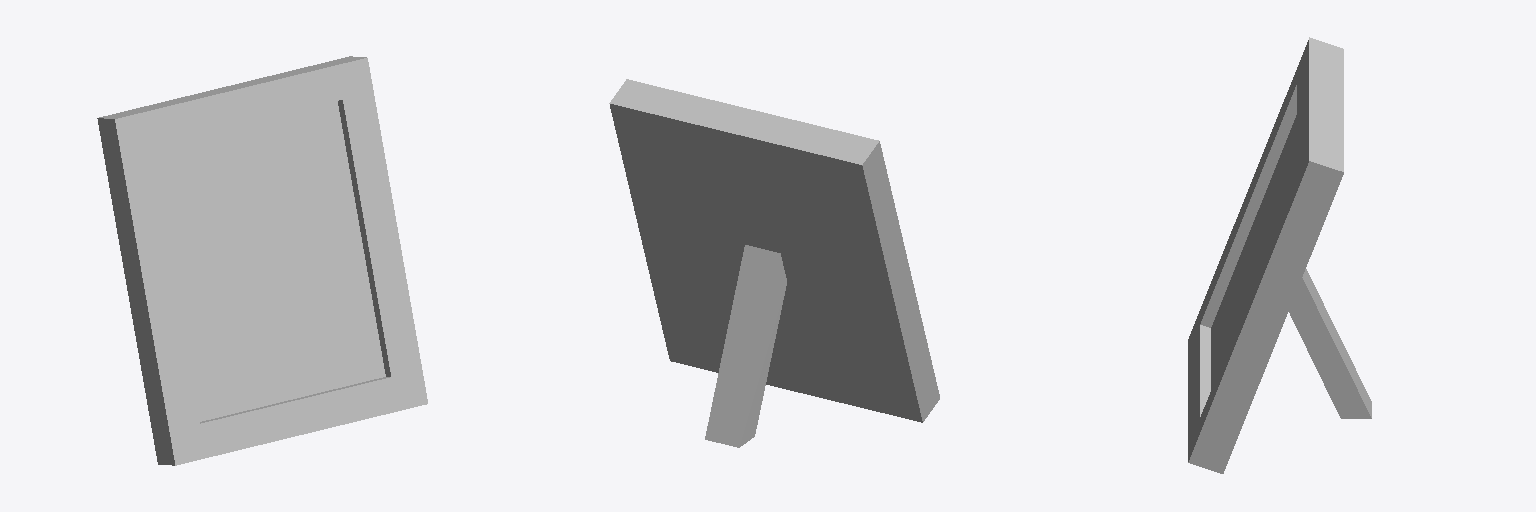
The model's file is Painting_Small2.obj.
3 views of the same model, side by side, from view 1: azimuth 30°, elevation 25°; view 2: azimuth 150°, elevation 25°; view 3: azimuth 270°, elevation 25° (orthographic).
Parts seen in each view (by area): view 1: Painting_Small2; view 2: Painting_Small2; view 3: Painting_Small2.
Part boxes in pixels (x1,y1,x2,y2): Painting_Small2: (97, 56, 427, 465); Painting_Small2: (609, 79, 939, 447); Painting_Small2: (1188, 37, 1371, 473).
Size of the model in its own units: 0.2078 by 0.2461 by 0.1307.